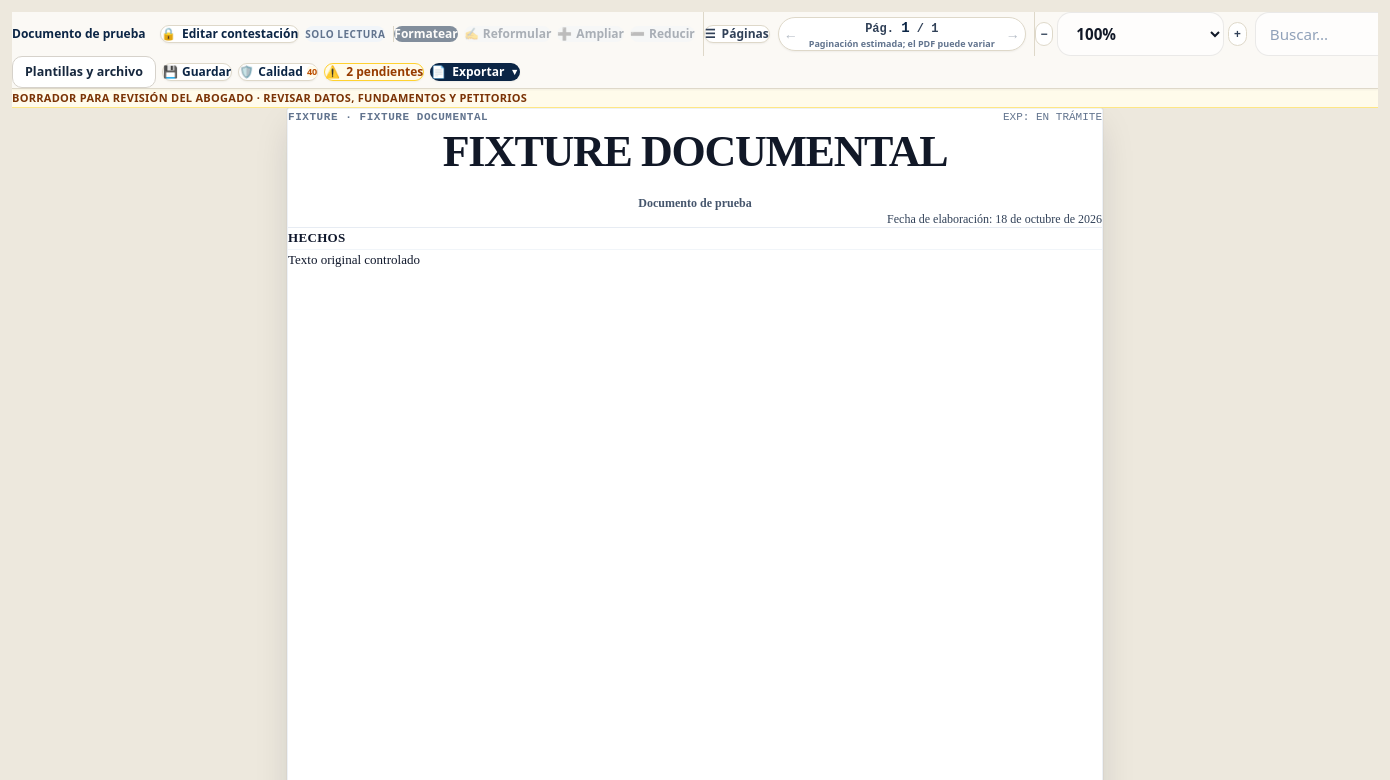
it: never offers FINAL exports for a type that is not functionally certified
This screenshot has width=1390, height=780.
Click the button titled "Elegir exportación de borrador o final": coordinates (475, 72) [430,63,520,81]
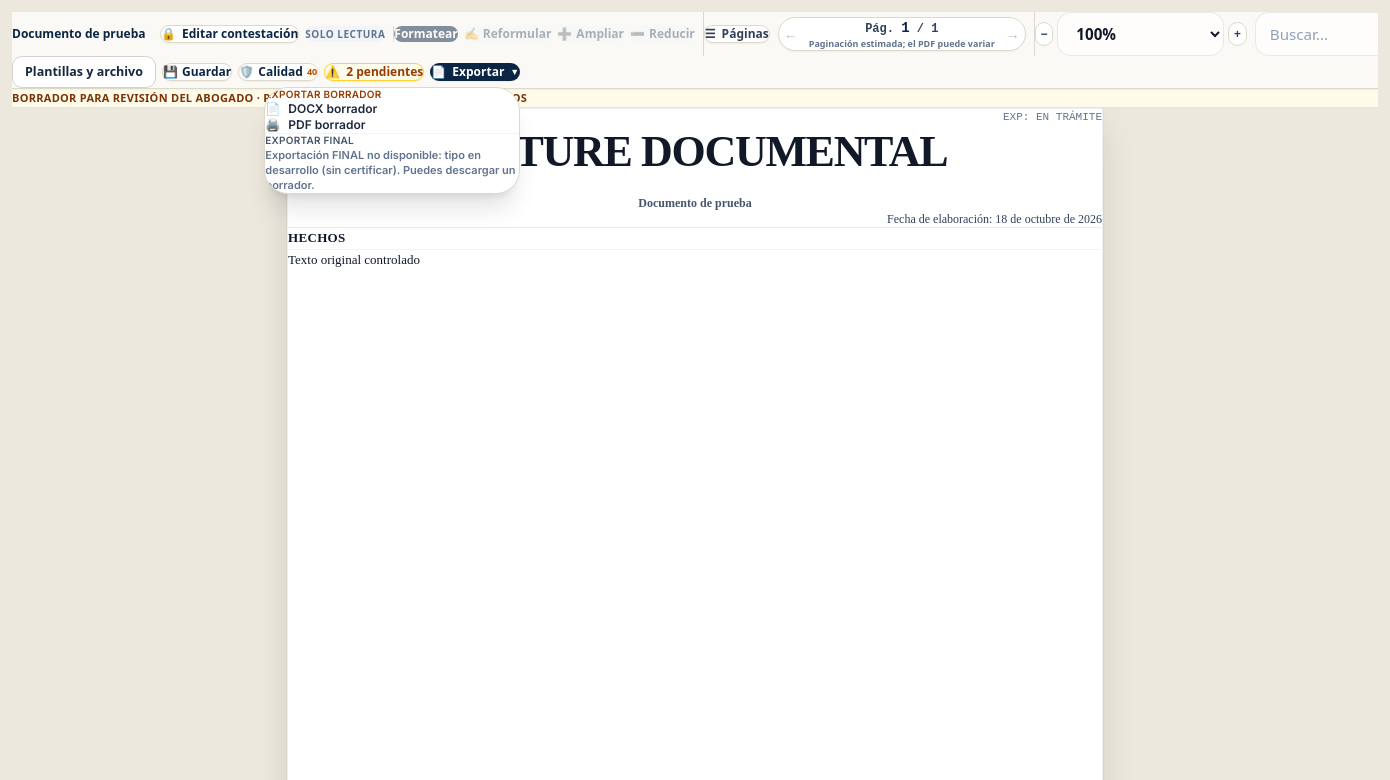
Expected: the text "Exportación FINAL no disponible: tipo en desarrollo" is shown, [265,148,516,192]
